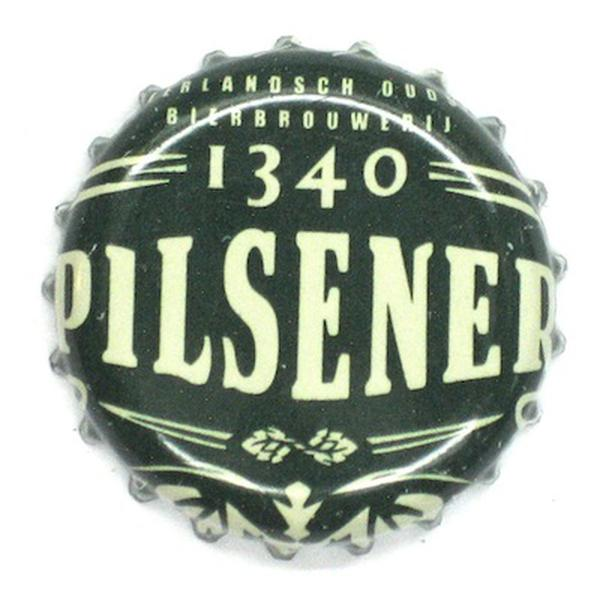brand: (31, 25, 577, 571)
